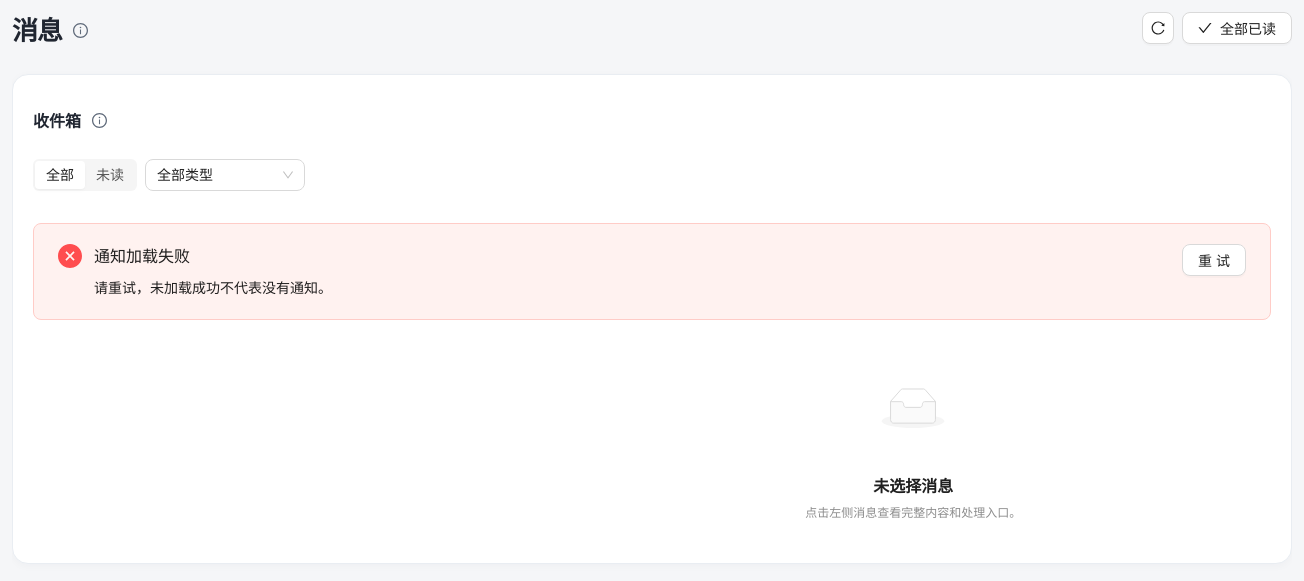
MessagesPage（消息通知） › 接口失败明确提示并可重试
Expected: the text "通知加载失败" is shown, [94, 246, 190, 266]
Step 1. Click the button "重 试" → x=1214, y=260, box [1182, 244, 1246, 276]
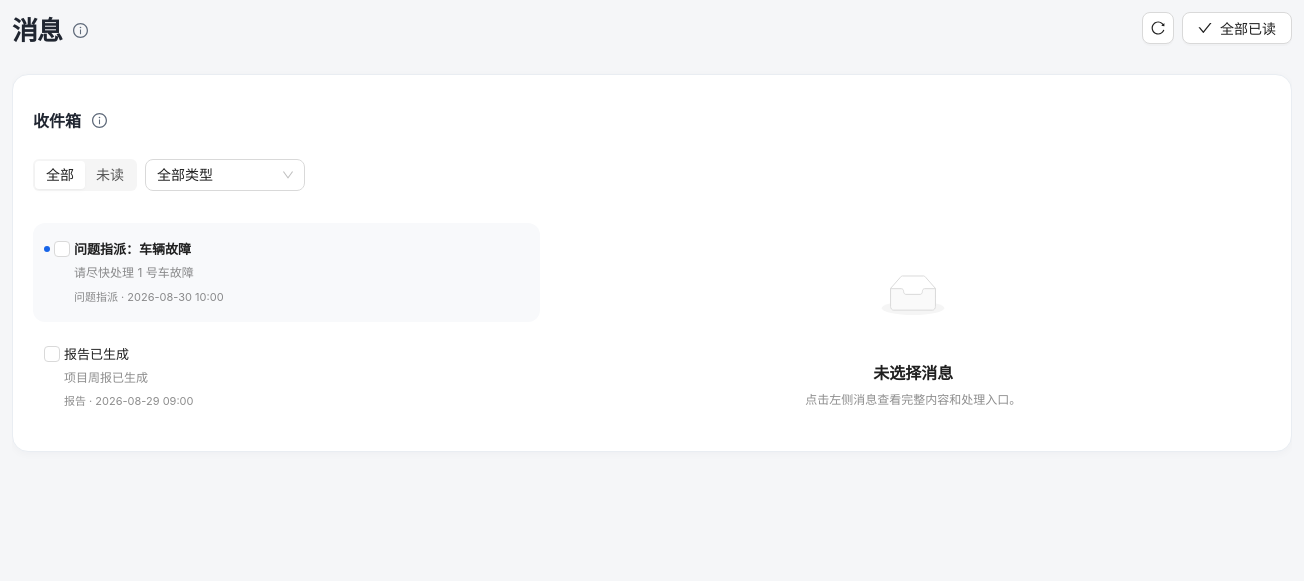
Result: the button "报告已生成" is shown at [64, 344, 528, 364]
